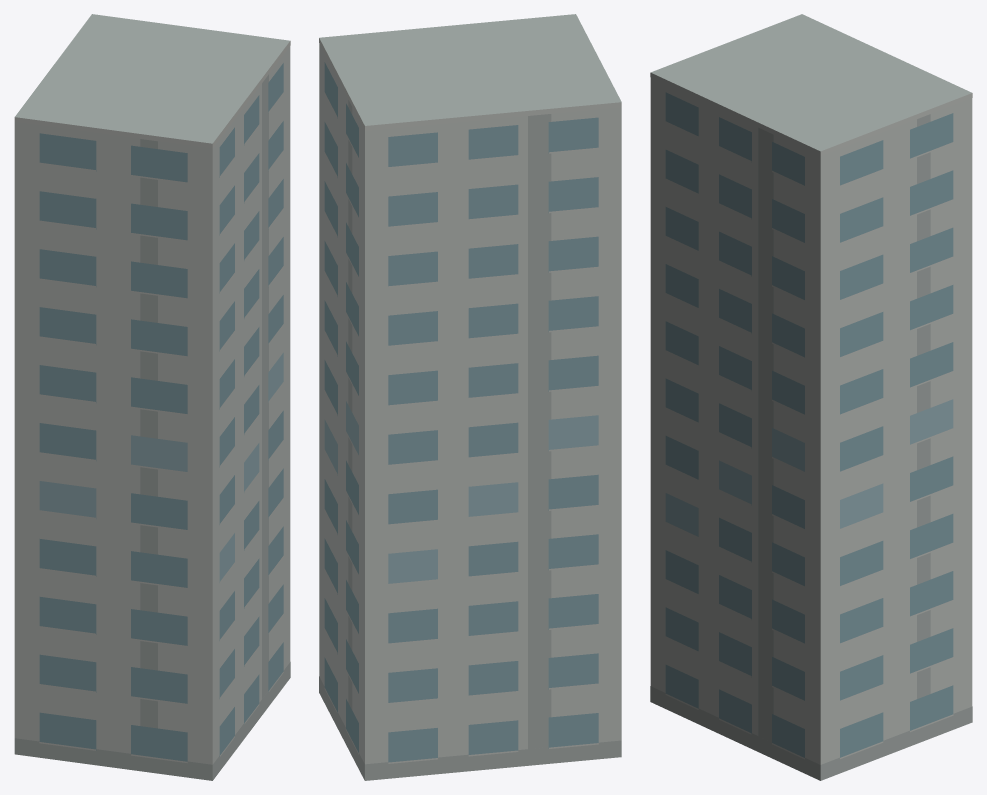
The model's file is residential-ad294215-8fef-4e1d-acd3-933874f01222.glb.
3 views of the same model, side by side, from view 1: azimuth 30°, elevation 25°; view 2: azimuth 150°, elevation 25°; view 3: azimuth 270°, elevation 25° (orthographic). The views are drawn at different scales.
Visible parts, largest first — view 1: residential-ad294215-8fef-4e1d-acd3-933874f01222.tmp; view 2: residential-ad294215-8fef-4e1d-acd3-933874f01222.tmp; view 3: residential-ad294215-8fef-4e1d-acd3-933874f01222.tmp.
Part boxes in pixels (box(x1,y1,x2,y2)): residential-ad294215-8fef-4e1d-acd3-933874f01222.tmp: box(14, 14, 290, 780); residential-ad294215-8fef-4e1d-acd3-933874f01222.tmp: box(319, 14, 621, 780); residential-ad294215-8fef-4e1d-acd3-933874f01222.tmp: box(650, 14, 972, 780).
Size of the model in its own units: 14.52 by 31 by 14.38.
